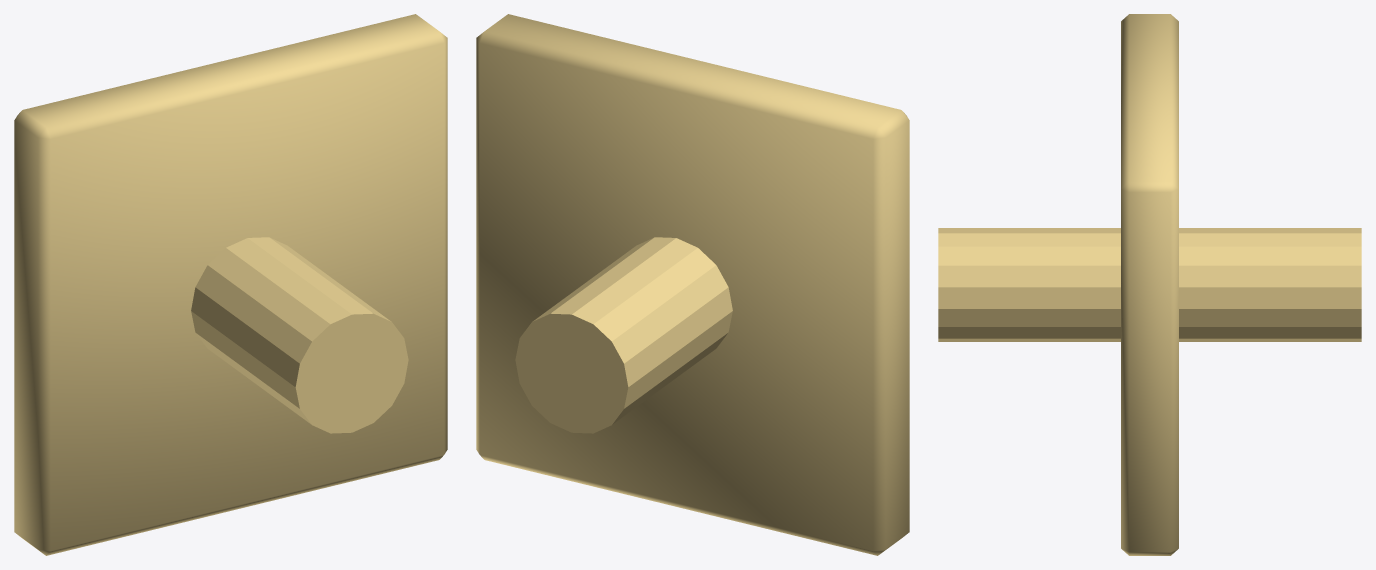
File: voxel_lock_cage.glb
The picture shows the model from 3 angles, left to right: view 1: azimuth 30°, elevation 25°; view 2: azimuth 150°, elevation 25°; view 3: azimuth 270°, elevation 25°; orthographic projection. The views are drawn at different scales.
Visible parts, largest first — view 1: Voxel_Lock_Cage; view 2: Voxel_Lock_Cage; view 3: Voxel_Lock_Cage.
Part boxes in pixels (bbox=[...]): Voxel_Lock_Cage: bbox=[14, 14, 447, 555]; Voxel_Lock_Cage: bbox=[476, 14, 909, 555]; Voxel_Lock_Cage: bbox=[938, 14, 1361, 555].
Bounding box in the file's own units: 1.01 × 1.01 × 1.04.
